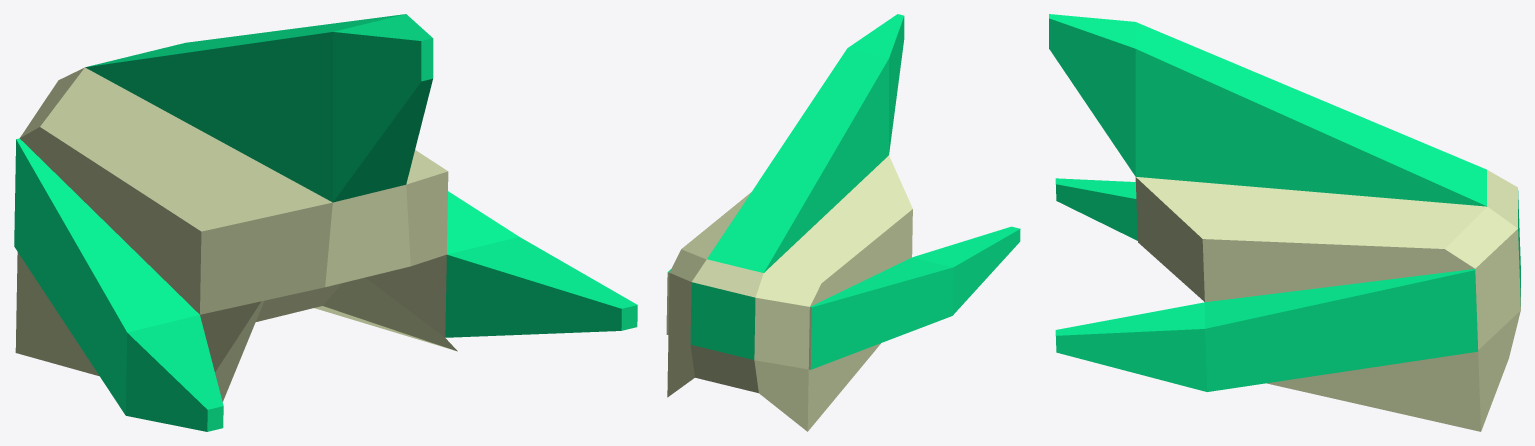
File: Worker.fbx
3 renders of one model, left to right at view 1: azimuth 30°, elevation 25°; view 2: azimuth 150°, elevation 25°; view 3: azimuth 270°, elevation 25°, orthographic. The views are drawn at different scales.
Visible parts, largest first — view 1: Worker; view 2: Worker; view 3: Worker.
Part boxes in pixels (x1,y1,x2,y2): Worker: [14, 14, 637, 431]; Worker: [666, 14, 1020, 431]; Worker: [1049, 14, 1520, 431].
Bounding box in the file's own units: 132 × 145 × 168.
